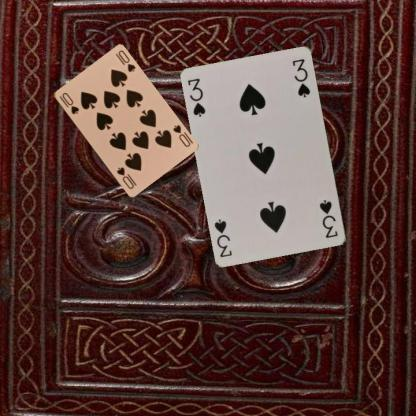10s: (57, 90, 80, 116), (170, 122, 191, 148)
3s: (317, 197, 339, 240), (185, 76, 207, 118)
